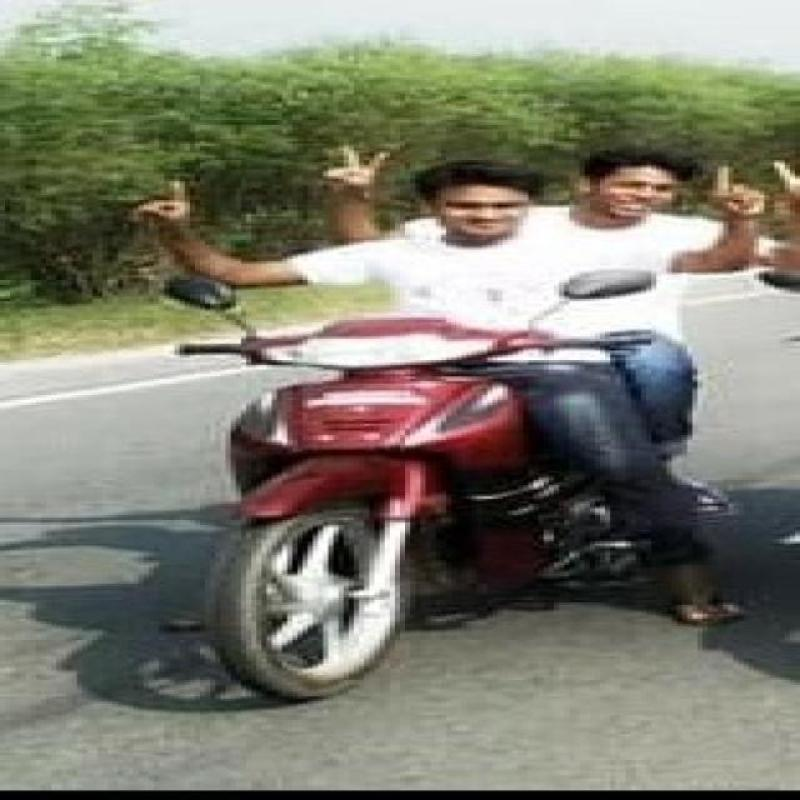nohelmet: (392, 158, 544, 246), (556, 138, 695, 233)
